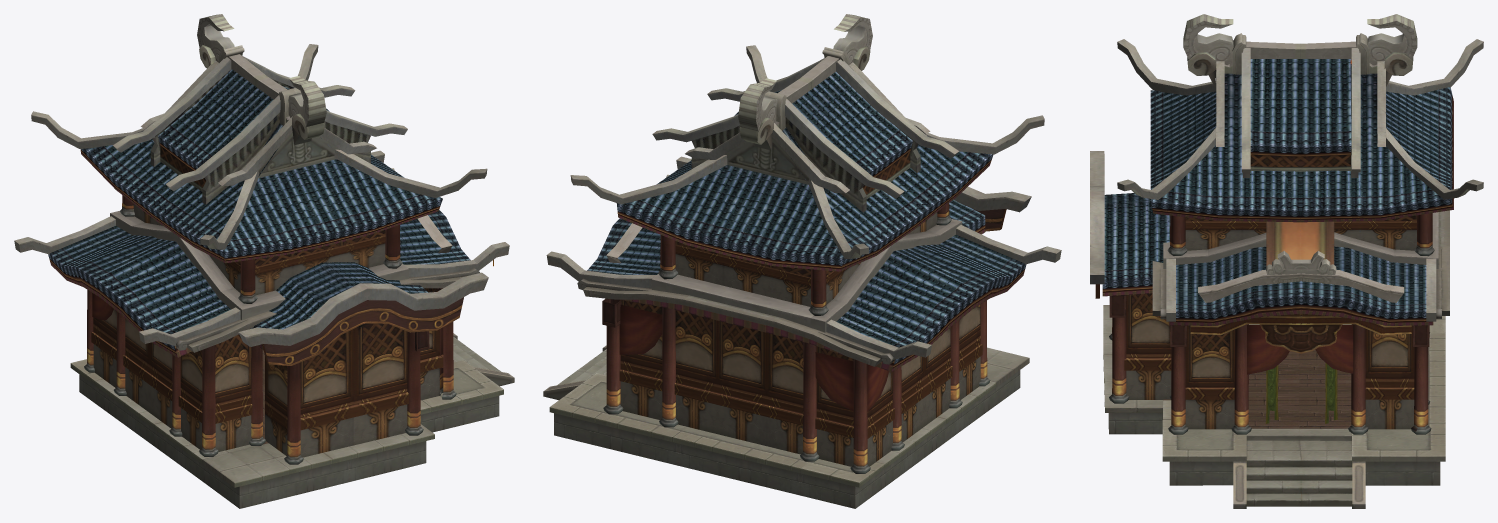
The model's file is cj_luoyang_jianzhu05_54_03_4822out.fbx.
The picture shows the model from 3 angles, left to right: view 1: azimuth 30°, elevation 25°; view 2: azimuth 150°, elevation 25°; view 3: azimuth 270°, elevation 25°; orthographic projection. The views are drawn at different scales.
Parts seen in each view (by area): view 1: cj_luoyang_jianzhu05; view 2: cj_luoyang_jianzhu05; view 3: cj_luoyang_jianzhu05.
Part boxes in pixels (x1,y1,x2,y2): cj_luoyang_jianzhu05: [14, 14, 514, 508]; cj_luoyang_jianzhu05: [543, 14, 1061, 508]; cj_luoyang_jianzhu05: [1090, 14, 1483, 508].
Size of the model in its own units: 10.67 by 9.21 by 8.65.
